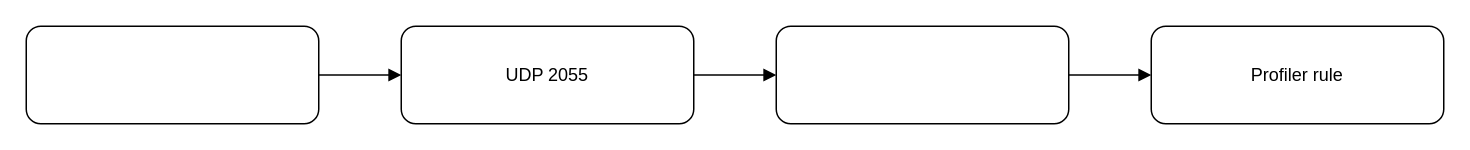
Some shapes in this 1470 by 150 pixel diagram are drawn without their labels. The shapes that lost their labels are listed below. From the top down, each one's box as (x1, y1, x2, y2) in pixels, then its label:
(25, 25, 319, 124): Exporter
(775, 25, 1069, 124): Network Sessions
